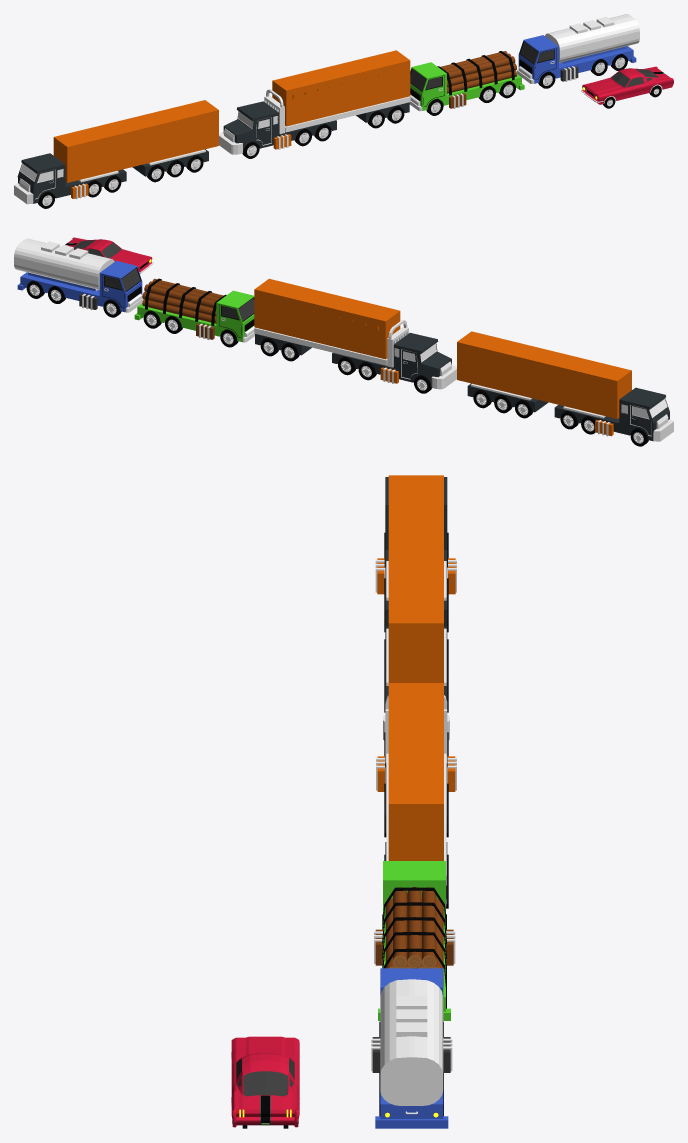
The model's file is Car.fbx.
3 renders of one model, top to bottom at view 1: azimuth 30°, elevation 25°; view 2: azimuth 150°, elevation 25°; view 3: azimuth 270°, elevation 25°, orthographic. The views are drawn at different scales.
Parts seen in each view (by area): view 1: ContainerTruck1, ContainerTruck0, OilTruck, WoodTruck, Mustang; view 2: ContainerTruck1, ContainerTruck0, OilTruck, WoodTruck, Mustang; view 3: ContainerTruck1, ContainerTruck0, OilTruck, WoodTruck, Mustang.
Part boxes in pixels (box(x1,y1,x2,y2)): ContainerTruck1: box(14, 100, 218, 208); ContainerTruck0: box(219, 50, 410, 158); OilTruck: box(517, 14, 639, 88); WoodTruck: box(409, 51, 524, 115); Mustang: box(581, 66, 673, 108); ContainerTruck1: box(457, 331, 673, 446); ContainerTruck0: box(254, 278, 456, 393); OilTruck: box(14, 238, 143, 317); WoodTruck: box(134, 278, 254, 347); Mustang: box(65, 237, 153, 273); ContainerTruck1: box(375, 475, 456, 712); ContainerTruck0: box(376, 683, 456, 908); OilTruck: box(371, 968, 452, 1128); WoodTruck: box(374, 861, 455, 1020); Mustang: box(231, 1036, 300, 1128).
Size of the model in its own units: 252 by 2681 by 430.
